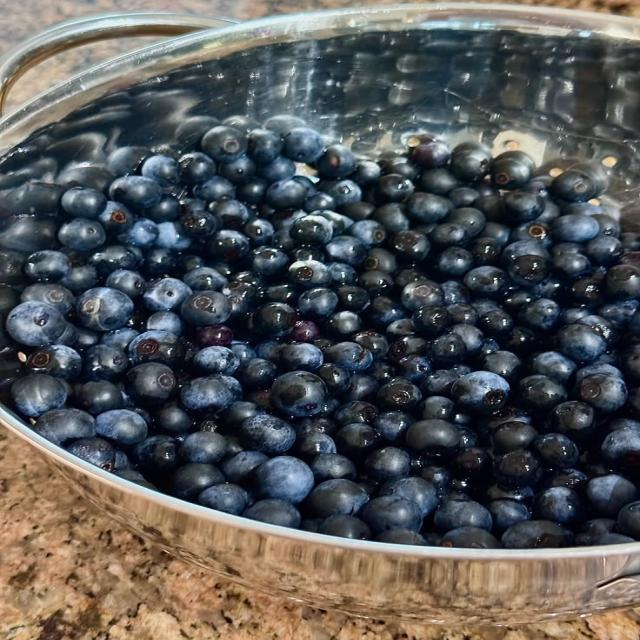blueberry: (255, 456, 313, 503), (6, 301, 66, 345), (76, 288, 133, 331), (272, 372, 326, 416), (12, 374, 67, 417), (452, 372, 509, 413), (380, 477, 438, 517), (361, 496, 422, 534), (307, 479, 368, 517), (33, 409, 96, 444), (239, 415, 295, 454), (587, 475, 637, 518), (126, 363, 177, 405), (169, 463, 225, 500), (180, 376, 239, 411), (501, 520, 573, 548), (405, 419, 459, 456), (547, 401, 595, 442), (128, 331, 184, 366), (26, 345, 82, 379), (577, 374, 627, 412), (557, 324, 607, 362), (134, 436, 179, 478), (533, 487, 583, 524), (96, 410, 147, 446), (434, 500, 492, 531), (180, 291, 231, 326), (494, 449, 539, 488), (519, 375, 566, 412), (200, 125, 247, 162), (109, 176, 162, 208), (450, 142, 492, 182), (142, 278, 192, 311), (77, 380, 124, 415), (491, 151, 534, 189), (198, 483, 249, 515), (20, 283, 74, 313), (220, 451, 268, 484), (335, 423, 379, 459), (67, 438, 115, 471), (58, 218, 106, 251), (550, 169, 598, 202), (533, 434, 579, 468), (364, 447, 410, 481), (601, 427, 639, 468), (491, 421, 538, 454), (531, 351, 577, 384), (487, 499, 531, 533), (282, 127, 324, 162), (254, 303, 297, 337), (406, 192, 453, 223), (400, 278, 444, 311), (325, 342, 373, 372), (208, 199, 249, 234), (24, 250, 70, 281), (180, 432, 226, 463), (60, 188, 106, 219), (378, 378, 421, 411), (480, 351, 522, 384), (196, 325, 239, 357), (440, 526, 502, 548), (289, 214, 333, 245), (427, 333, 467, 367), (235, 358, 277, 390), (318, 515, 371, 540), (552, 214, 599, 242), (503, 191, 544, 223), (194, 346, 239, 375), (464, 266, 507, 296), (141, 154, 180, 187), (412, 304, 451, 337), (316, 145, 356, 177), (409, 137, 450, 168), (520, 299, 559, 331), (374, 173, 414, 204), (107, 147, 151, 175), (266, 179, 307, 209), (325, 236, 366, 266), (247, 129, 282, 164), (288, 260, 330, 289), (605, 265, 639, 300), (374, 411, 413, 441), (280, 344, 323, 371), (106, 269, 146, 298), (539, 469, 587, 493), (575, 518, 616, 546), (179, 153, 216, 184), (585, 235, 623, 265), (418, 168, 460, 195), (193, 175, 235, 202), (436, 247, 473, 277), (154, 222, 192, 251), (296, 432, 336, 459), (347, 220, 387, 247), (60, 265, 98, 293), (218, 156, 256, 183), (450, 325, 483, 356), (252, 248, 289, 275), (259, 156, 295, 183), (397, 355, 431, 383), (146, 311, 184, 335), (100, 328, 139, 351), (617, 502, 640, 540), (420, 465, 452, 492), (420, 396, 454, 421), (374, 529, 426, 545), (592, 533, 636, 545)
